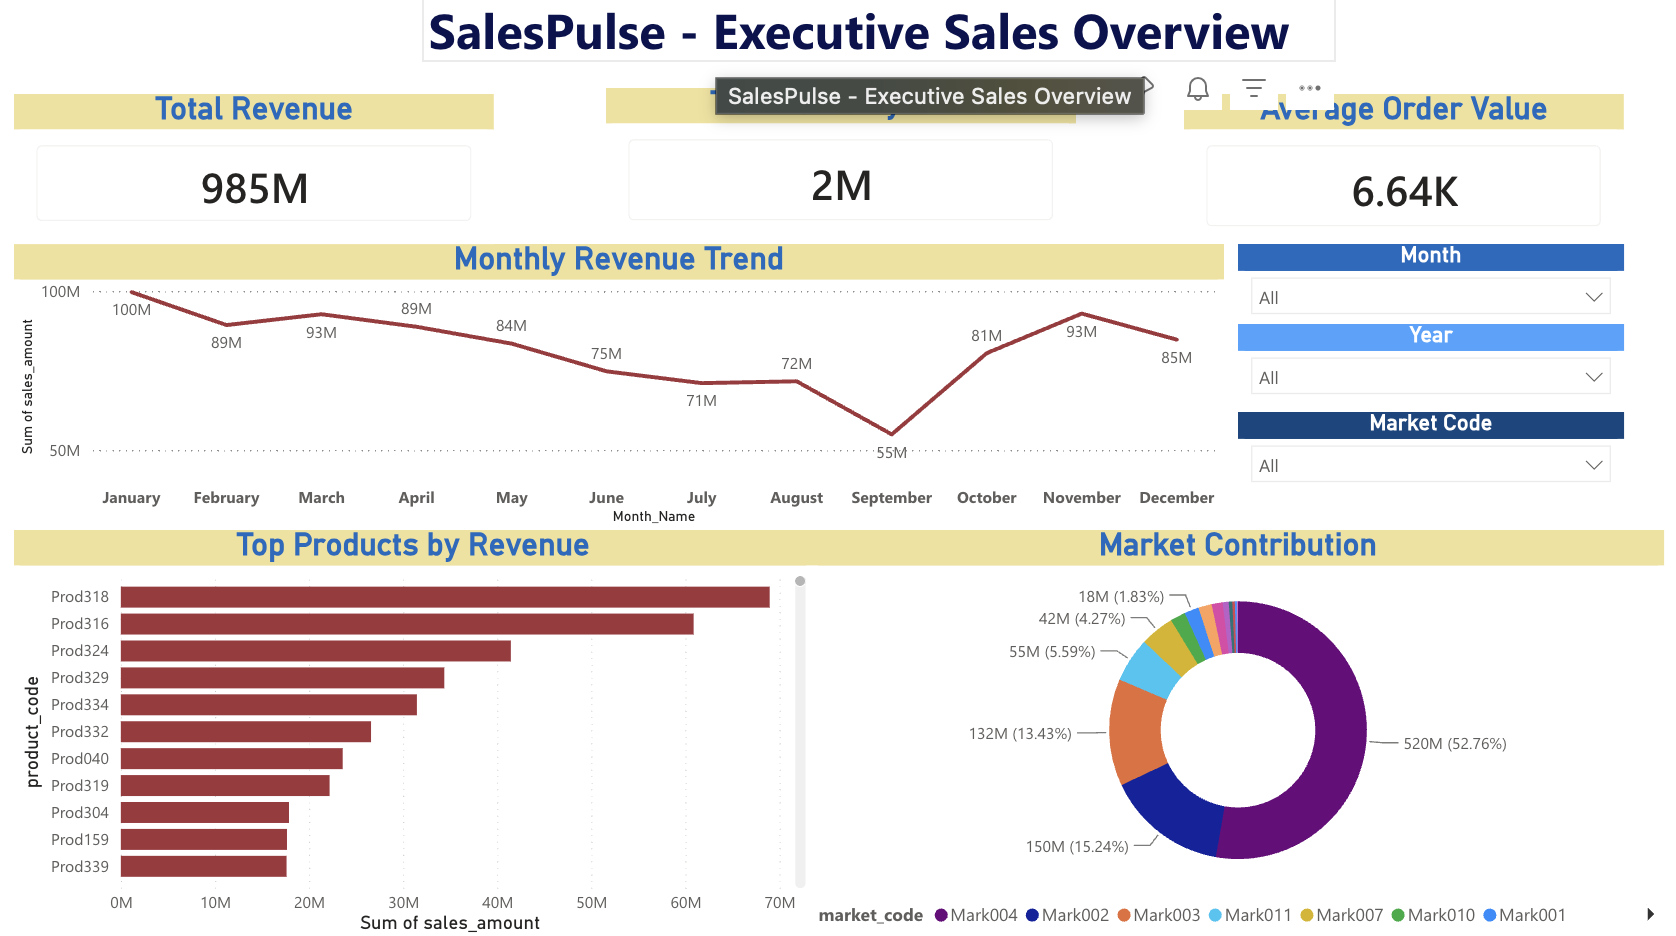

The page's visual inventory and layout, read from the dashboard file:
{"tool":"powerbi","page":{"name":"Executive Sales Overview","canvas":[1280,720],"ordinal":0},"visuals":[{"type":"cardVisual","title":"Total Quantity Sold","fields":{"Data":["Sum(final_sales_features.sales_qty)"]},"box":[448.5,74.8,404.3,119],"z":0},{"type":"cardVisual","title":"Average Order Value","fields":{"Data":["Avg(final_sales_features.sales_amount)"]},"box":[880.3,74.8,358.5,119],"z":1000},{"type":"lineChart","title":"Monthly Revenue Trend","fields":{"Category":["final_sales_features.Month_Name"],"Y":["Sum(final_sales_features.sales_amount)"]},"box":[10.7,189.2,923,218.2],"z":2000},{"type":"clusteredBarChart","title":"Top Products by Revenue","fields":{"Category":["final_sales_features.product_code"],"Y":["Sum(final_sales_features.sales_amount)"]},"box":[10.2,406.8,608.9,312.7],"z":3000},{"type":"donutChart","title":"Market Contribution","fields":{"Category":["final_sales_features.market_code"],"Y":["Sum(final_sales_features.sales_amount)"]},"box":[619.4,407.3,649.9,312.8],"z":4000},{"type":"slicer","title":"Year","fields":{"Values":["final_sales_features.Year"]},"box":[944.4,250.2,294.4,56.5],"z":5000},{"type":"slicer","title":"Month","fields":{"Values":["final_sales_features.Month_Name"]},"box":[944.4,189.2,294.4,56.5],"z":6000},{"type":"slicer","title":"Market Code","fields":{"Values":["final_sales_features.market_code"]},"box":[944.4,317.3,294.4,56.5],"z":7000},{"type":"cardVisual","title":"Total Revenue","fields":{"Data":["Sum(final_sales_features.sales_amount)"]},"box":[10.7,74.8,407.3,114.4],"z":8000},{"type":"cardVisual","title":"SalesPulse - Executive Sales Overview","fields":{"Data":["Sum(final_sales_features.sales_amount)"]},"box":[321.9,0,697.2,50.4],"z":9000},{"type":"cardVisual","title":"Data Updated: 2026","fields":{"Rows":["final_sales_features.market_code"]},"box":[0,9.2,167.8,16.8],"z":10000}]}

Visuals, with their boxes on the page's 1280x720 design canvas (x1, y1, x2, y2). These are canvas units, not pixel positions in the 1676x936 screenshot, which may show the page scaled, cropped or inside an application window:
"Total Quantity Sold" cardVisual: rect(448, 75, 853, 194)
"Average Order Value" cardVisual: rect(880, 75, 1239, 194)
"Monthly Revenue Trend" lineChart: rect(11, 189, 934, 407)
"Top Products by Revenue" clusteredBarChart: rect(10, 407, 619, 720)
"Market Contribution" donutChart: rect(619, 407, 1269, 720)
"Year" slicer: rect(944, 250, 1239, 307)
"Month" slicer: rect(944, 189, 1239, 246)
"Market Code" slicer: rect(944, 317, 1239, 374)
"Total Revenue" cardVisual: rect(11, 75, 418, 189)
"SalesPulse - Executive Sales Overview" cardVisual: rect(322, 0, 1019, 50)
"Data Updated: 2026" cardVisual: rect(0, 9, 168, 26)
